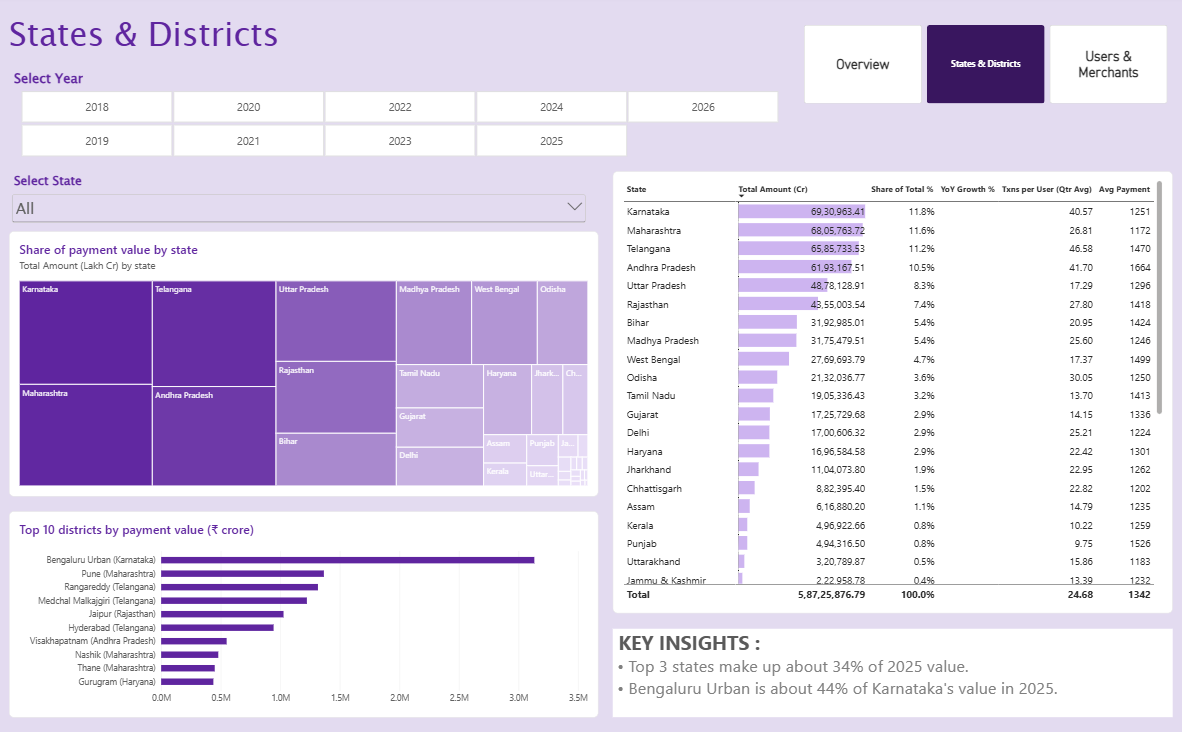

What the dashboard file says about the page in this screenshot:
{"tool":"powerbi","page":{"name":"States & Districts","canvas":[1935,1215],"ordinal":1},"visuals":[{"type":"tableEx","fields":{"Values":["dim_state.state","fact_state.Total Amount (Cr)","fact_state.Share of Total %","fact_state.YoY Growth %","fact_state.Txns per User (Qtr Avg)","fact_state.Avg Payment"]},"box":[1008,288,912,720],"z":0},{"type":"barChart","title":"Top 10 districts by payment value (₹ crore)","fields":{"Category":["fact_district.District Label"],"Y":["fact_district.District Amount (Cr)"]},"box":[24,840,960,336],"z":1000},{"type":"treemap","title":"Share of payment value by state","fields":{"Group":["dim_state.state"],"Values":["fact_state.Total Amount (Lakh Cr)"]},"box":[24,384,960,432],"z":2000},{"type":"textbox","box":[1008,1032,912,144],"z":3000},{"type":"textbox","box":[24,24,648,96],"z":4000},{"type":"slicer","fields":{"Values":["dim_period.year"]},"box":[24,120,1272,144],"z":5000},{"type":"slicer","fields":{"Values":["dim_state.state"]},"box":[24,288,944,96],"z":6000},{"type":"pageNavigator","title":"PAGE NAVIGATION","box":[1320,48,592,128],"z":7001}]}

Visuals, with their boxes in screenshot pixels (x1, y1, x2, y2), scaled from the page's 1935x1215 canvas onto the 1182x732 screenshot:
tableEx - dim_state.state x fact_state.Total Amount (Cr): l=616, t=174, r=1173, b=607
"Top 10 districts by payment value (₹ crore)" barChart: l=15, t=506, r=601, b=709
"Share of payment value by state" treemap: l=15, t=231, r=601, b=492
textbox: l=616, t=622, r=1173, b=709
textbox: l=15, t=14, r=410, b=72
slicer - dim_period.year: l=15, t=72, r=792, b=159
slicer - dim_state.state: l=15, t=174, r=591, b=231
"PAGE NAVIGATION" pageNavigator: l=806, t=29, r=1168, b=106
